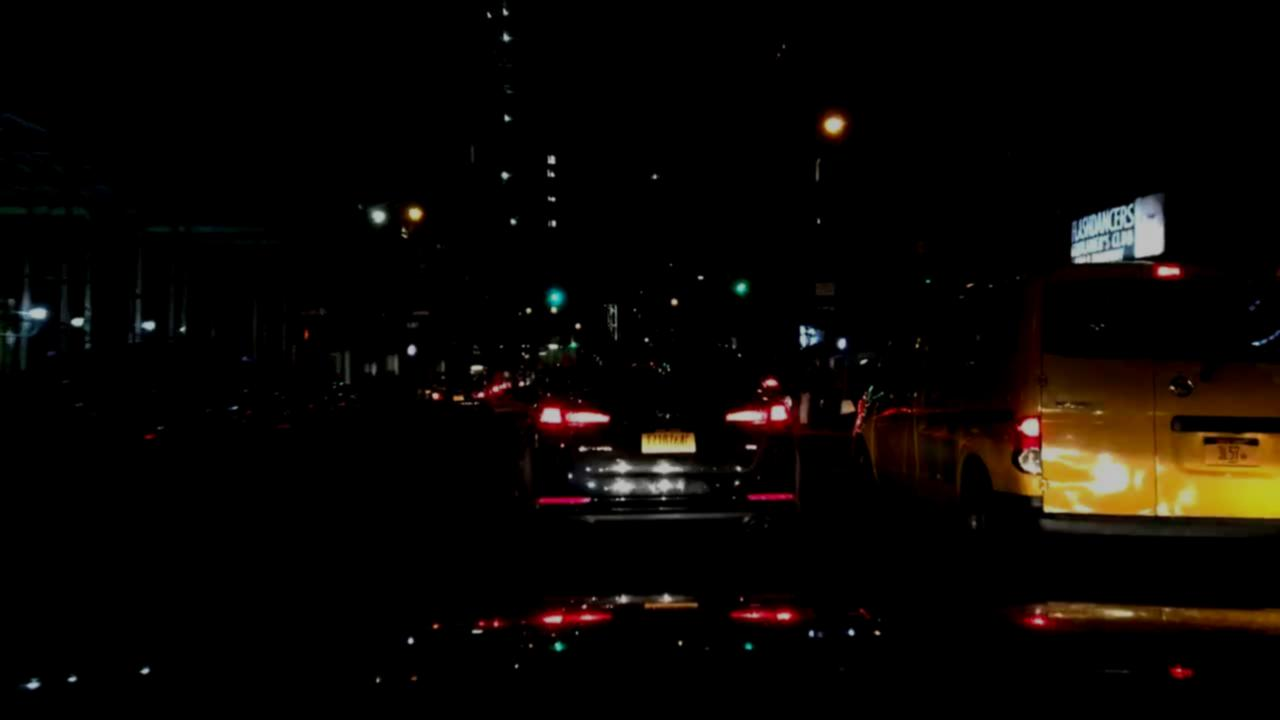Nissan: (1168, 373, 1196, 398)
